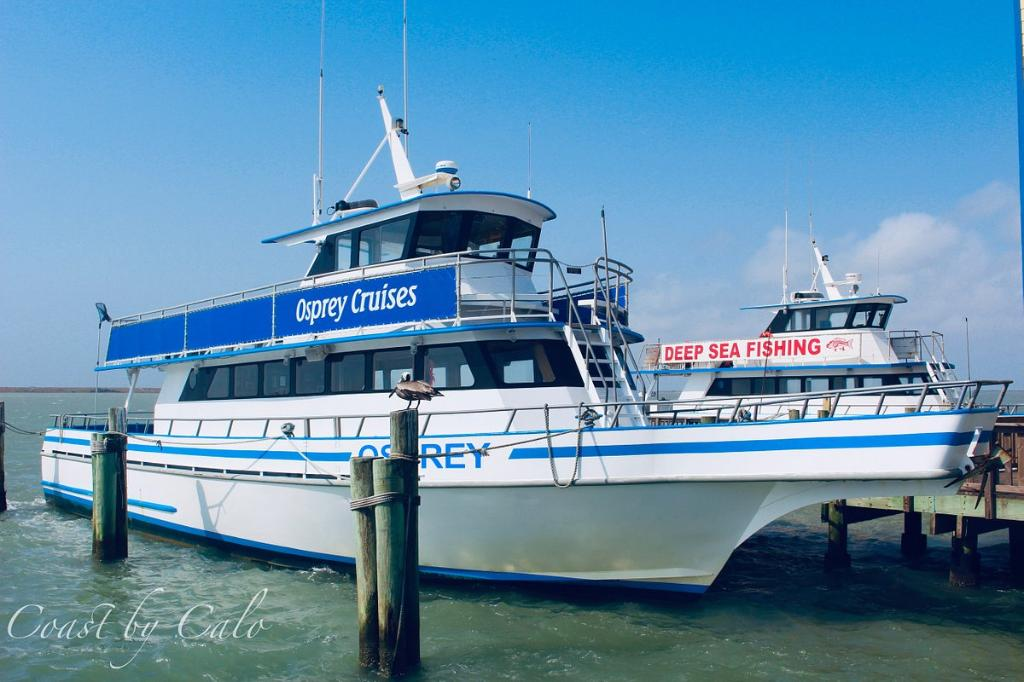PassengerShip: (20, 107, 998, 597)
